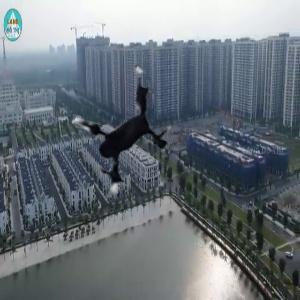drone: (39, 53, 193, 207)
